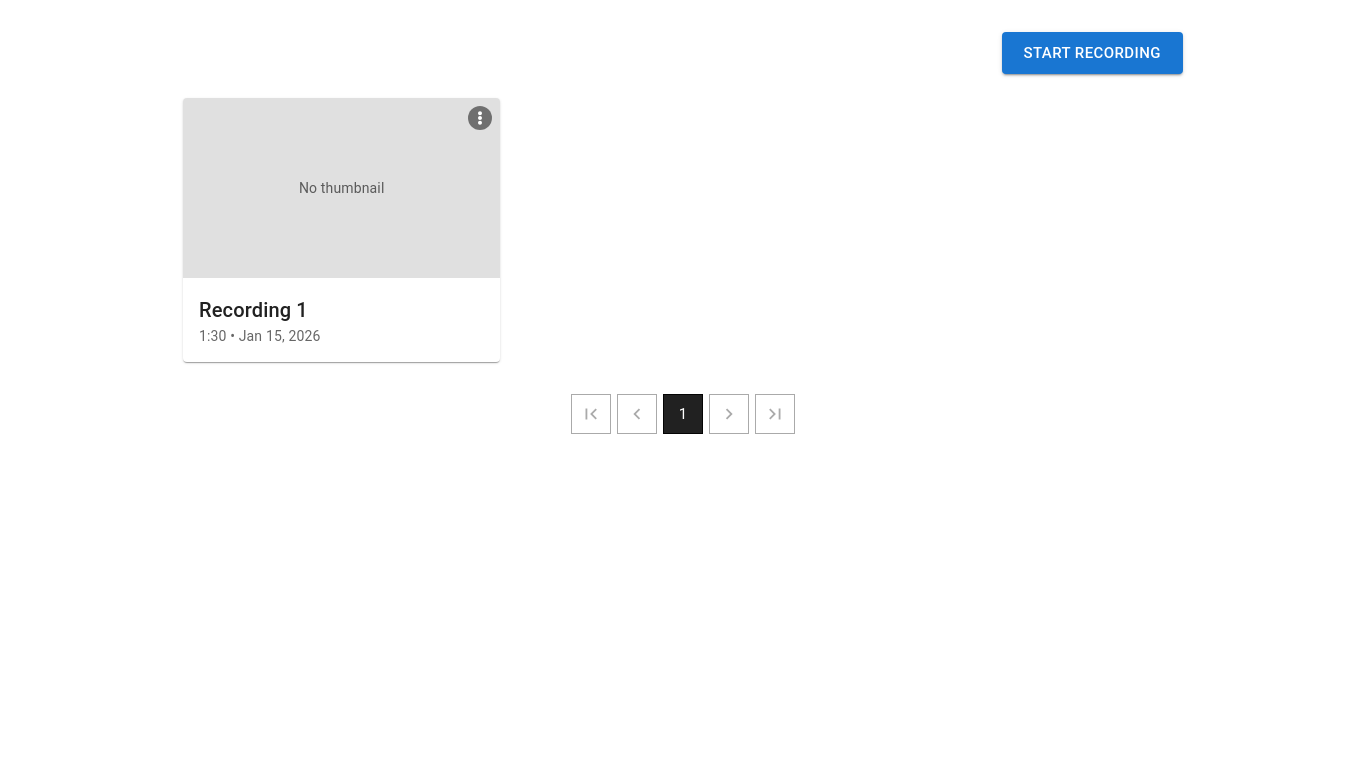
Scenario: RecordingCard Menu › delete action › does not delete when cancel is clicked
The image size is (1366, 768).
Click the button with test id "recording-card-menu-button-rec-1".
click(480, 118)  # box [468, 106, 492, 130]
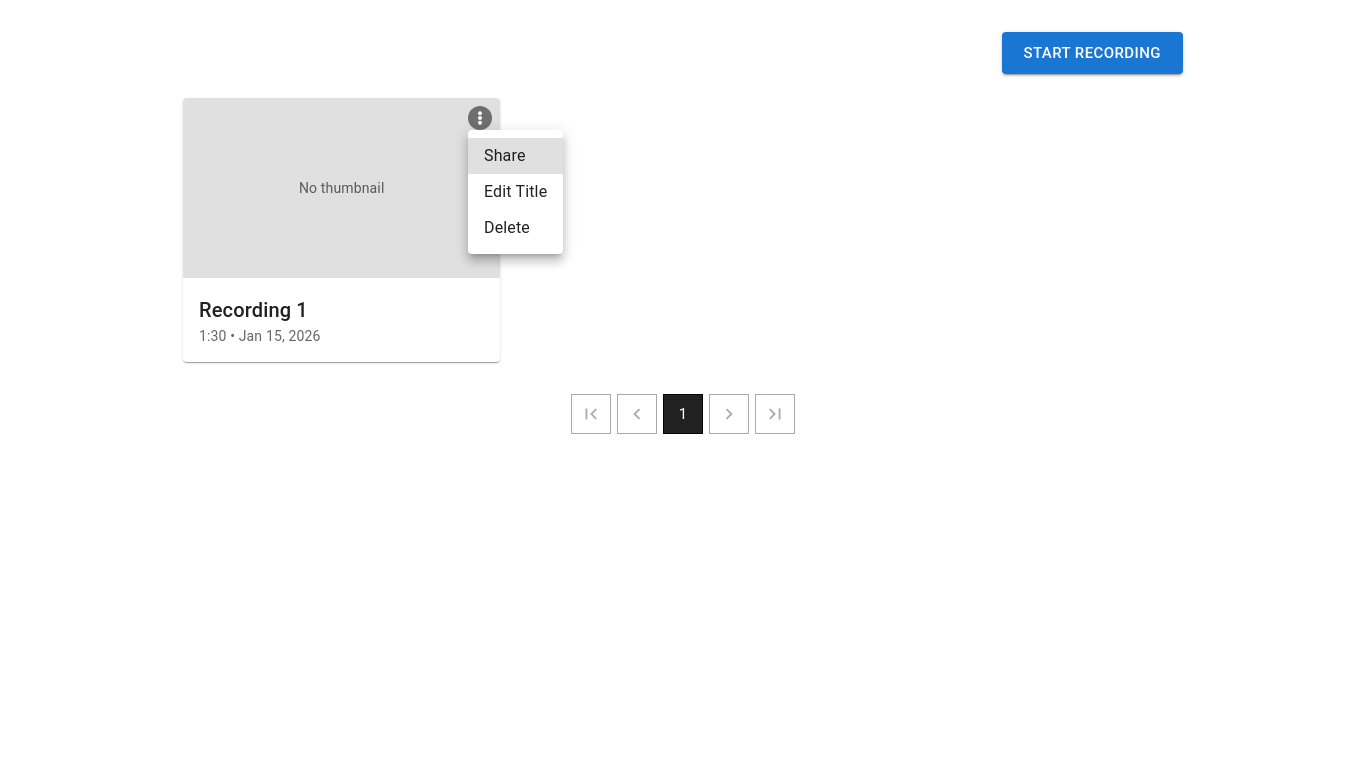
expect the menu item "Delete" is shown: met
Click the menu item "Delete".
click(507, 228)  # box [484, 218, 530, 237]
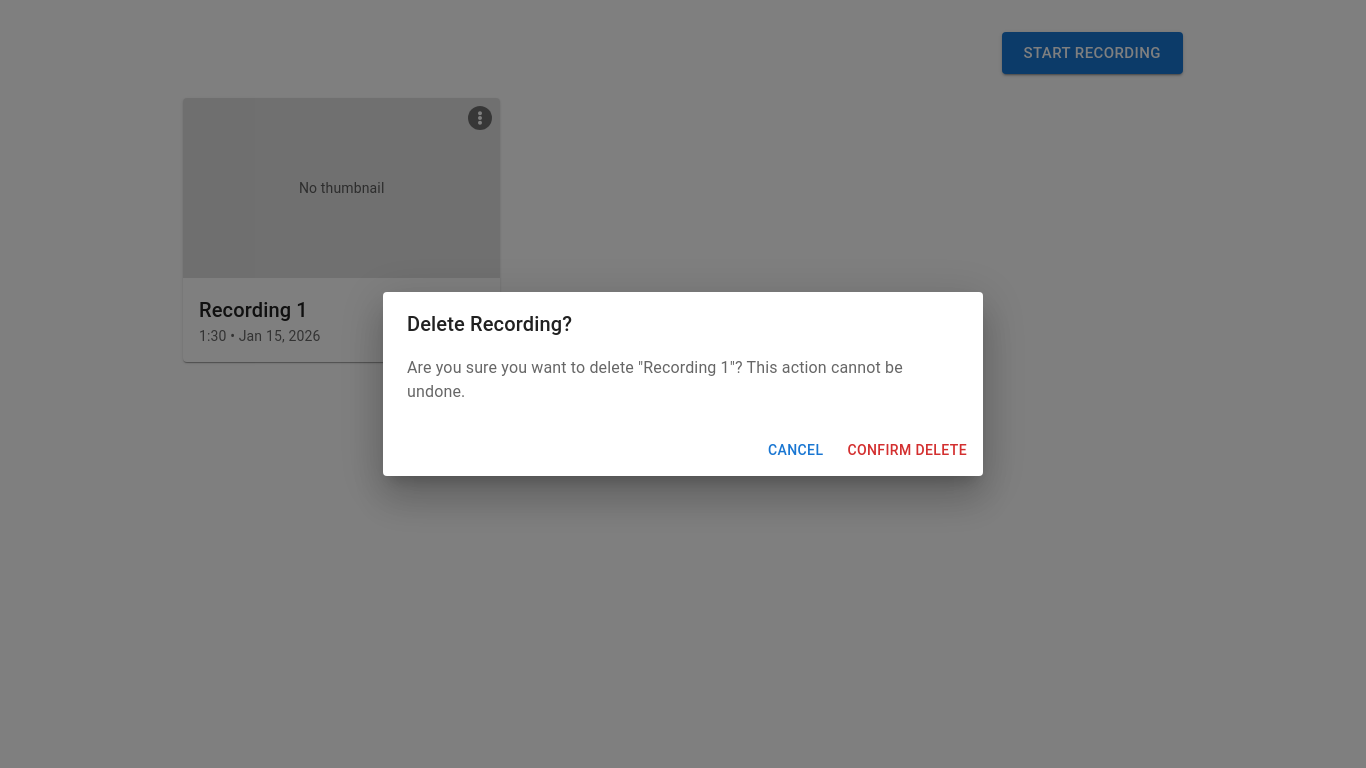
expect the element with test id "delete-confirmation-dialog" is shown: met
Click the button "Cancel".
click(796, 450)  # box [760, 432, 831, 468]
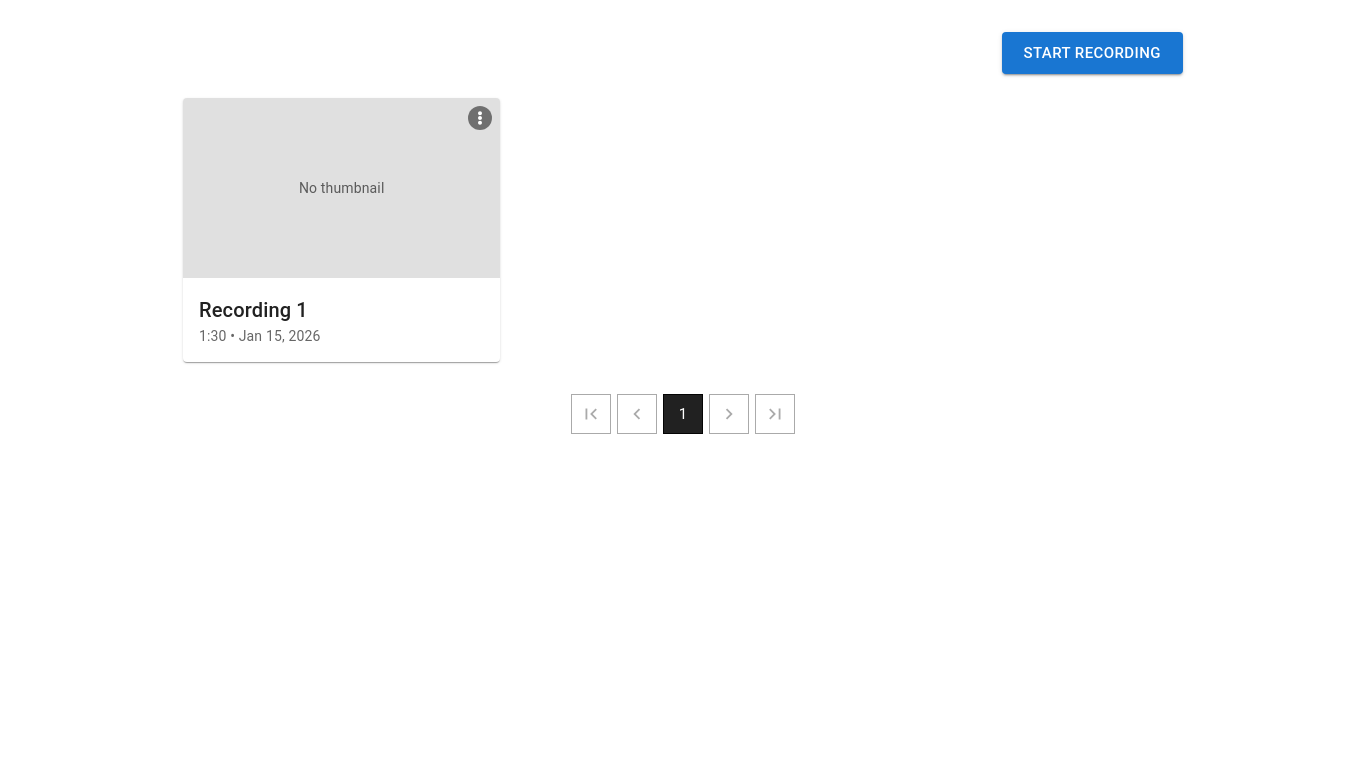
expect the element with test id "delete-confirmation-dialog" is gone: met
